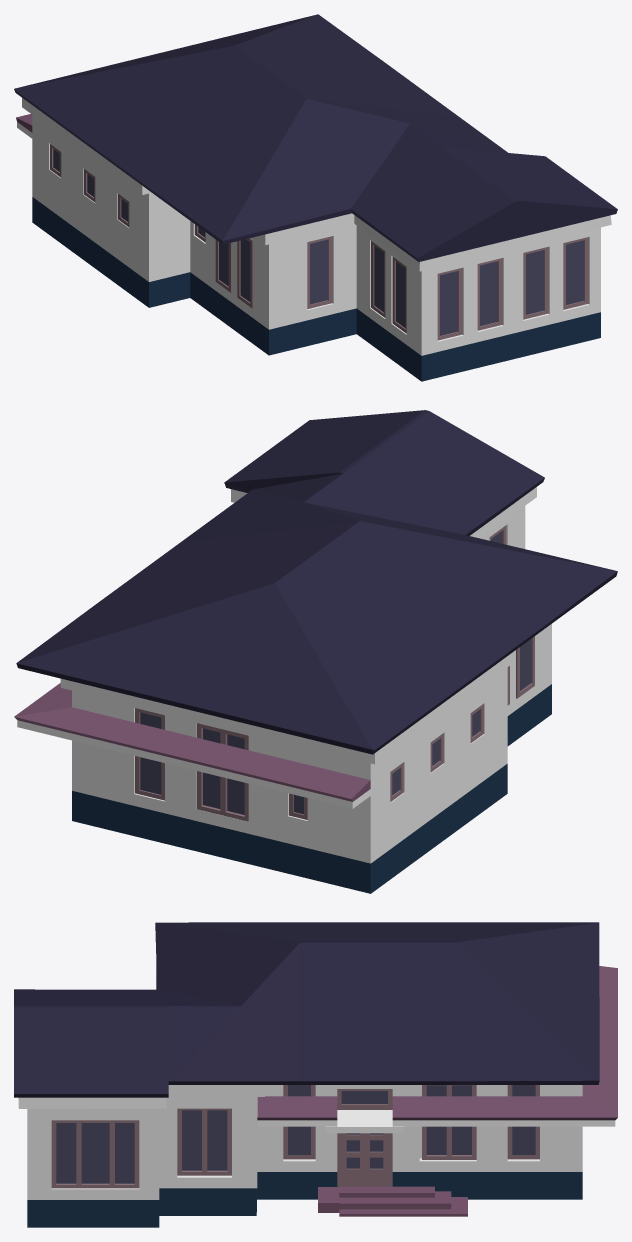
The model's file is Buildings_065.fbx.
3 renders of one model, top to bottom at view 1: azimuth 30°, elevation 25°; view 2: azimuth 150°, elevation 25°; view 3: azimuth 270°, elevation 25°, orthographic. The views are drawn at different scales.
Visible parts, largest first — view 1: Buildings.065; view 2: Buildings.065; view 3: Buildings.065.
Part boxes in pixels (x1=…): Buildings.065: x1=14, y1=14, x2=617, y2=381; Buildings.065: x1=14, y1=410, x2=617, y2=893; Buildings.065: x1=14, y1=922, x2=617, y2=1227.
Bounding box in the file's own units: 12.38 × 6.68 × 18.42.
